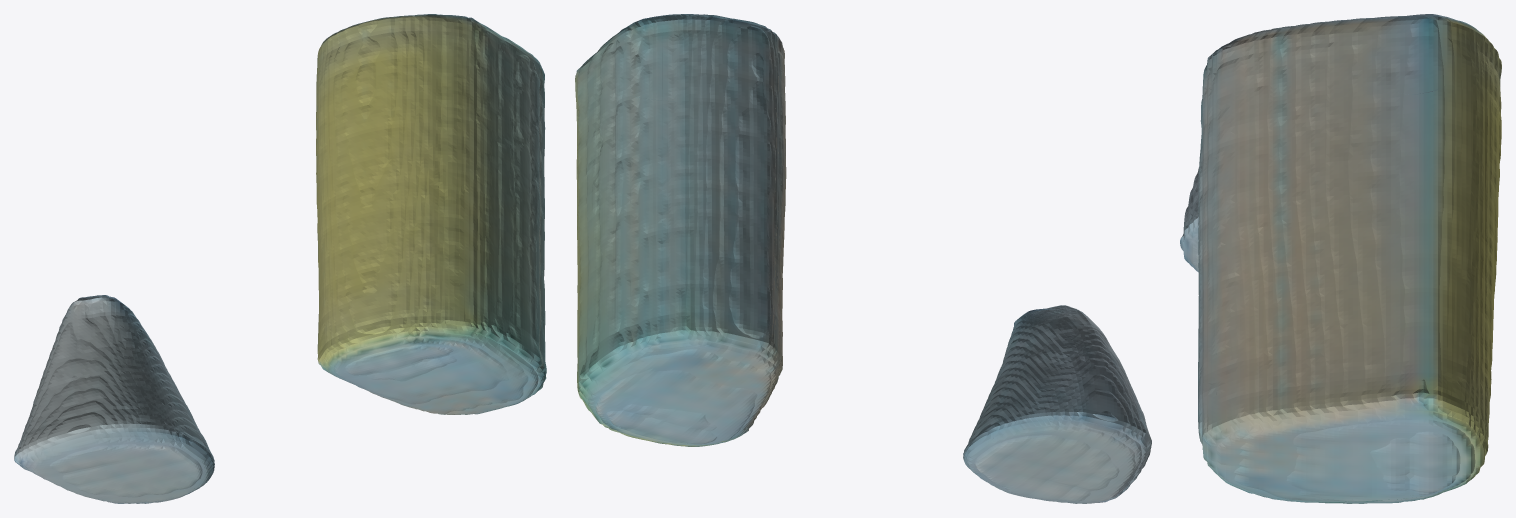
3 renders of one model, left to right at view 1: azimuth 30°, elevation 25°; view 2: azimuth 150°, elevation 25°; view 3: azimuth 270°, elevation 25°, orthographic. The views are drawn at different scales.
Parts seen in each view (by area): view 1: geometry_0; view 2: geometry_0; view 3: geometry_0.
Boxes of the visible parts, bbox=[...] form: geometry_0: bbox=[14, 14, 546, 503]; geometry_0: bbox=[575, 14, 1151, 503]; geometry_0: bbox=[1180, 14, 1501, 503].
Size of the model in its own units: 1.6 by 1 by 0.7107.
